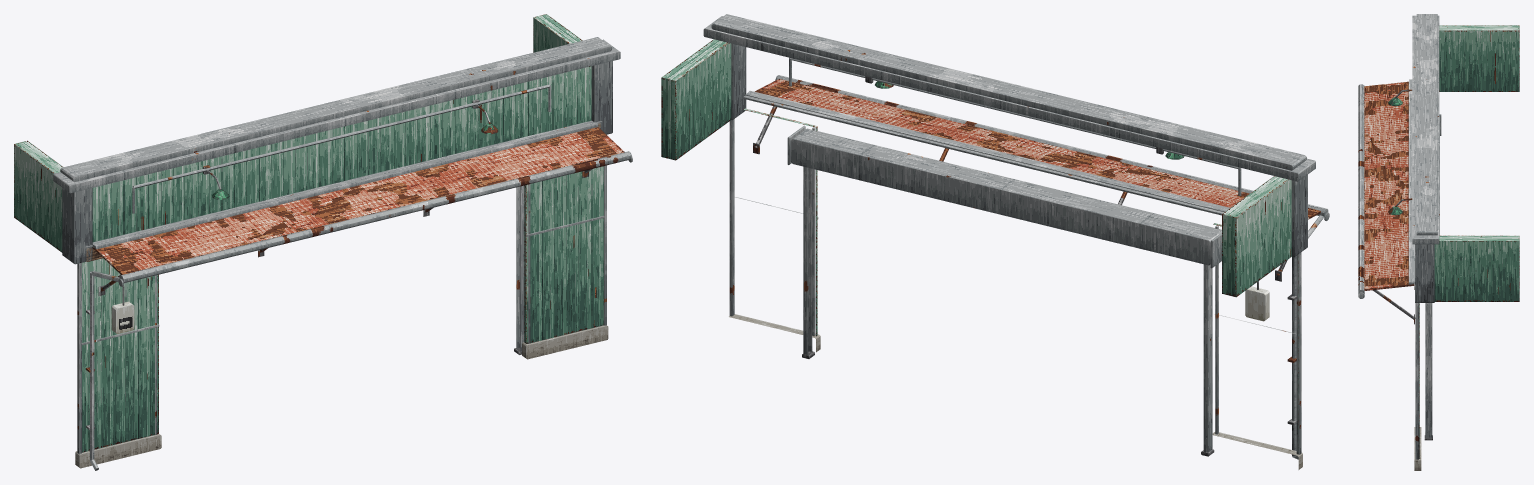
Rendered from shopfront.glb.
3 views of the same model, side by side, from view 1: azimuth 30°, elevation 25°; view 2: azimuth 150°, elevation 25°; view 3: azimuth 270°, elevation 25° (orthographic). The views are drawn at different scales.
Visible parts, largest first — view 1: shopfront; view 2: shopfront; view 3: shopfront.
Boxes of the visible parts, left/top/right/bottom form: shopfront: left=14, top=14, right=632, bottom=470; shopfront: left=661, top=14, right=1329, bottom=469; shopfront: left=1358, top=14, right=1519, bottom=470.
Size of the model in its own units: 9 by 4.55 by 2.76.
Materials: 1 (1 with a texture image).
